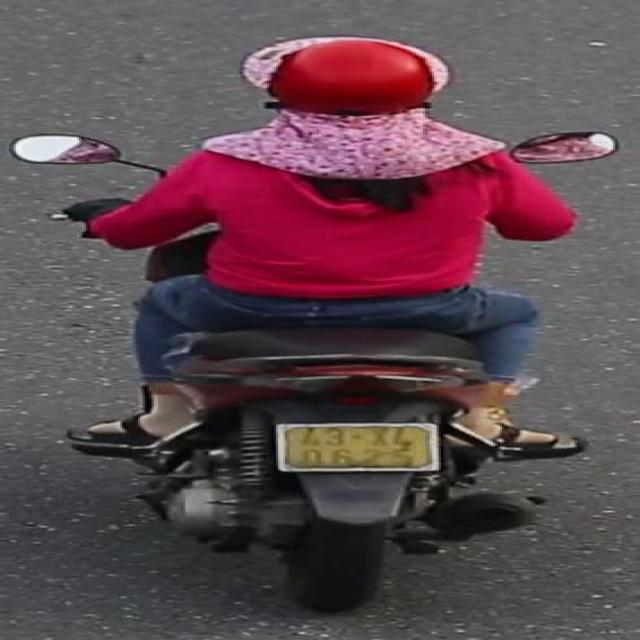LP: (269, 417, 446, 474)
helmet: (235, 32, 459, 142)
